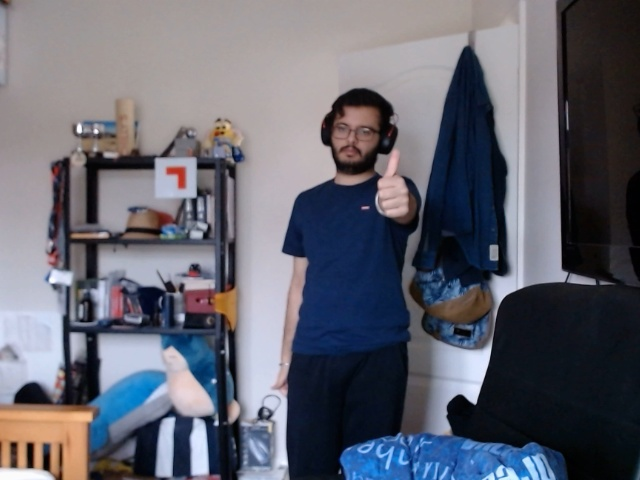Thumbs up: (362, 147, 422, 232)
